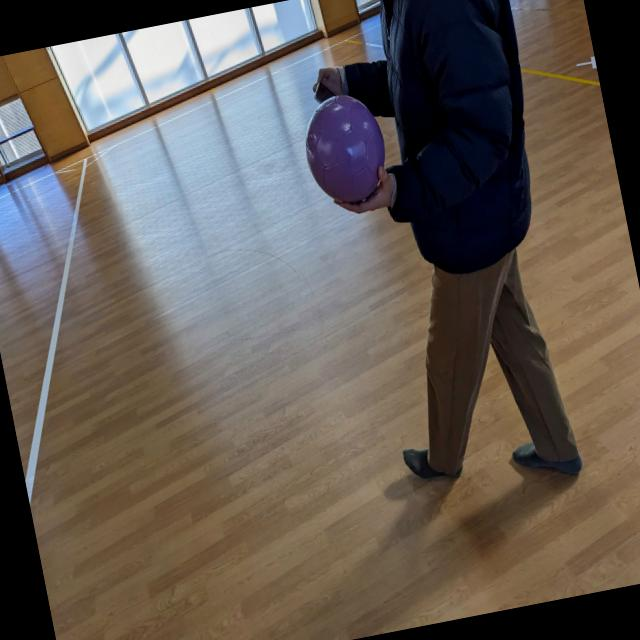purple_ball: (295, 87, 396, 212)
